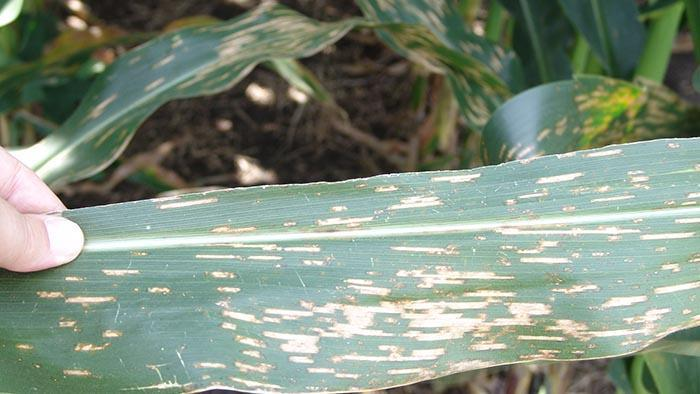Gray_Leaf_Spot: (401, 256, 565, 393), (569, 228, 700, 355), (347, 0, 487, 106), (185, 0, 347, 91), (225, 293, 371, 391), (337, 260, 418, 389), (574, 68, 700, 142), (482, 113, 579, 164), (502, 161, 584, 220), (189, 242, 330, 271), (476, 223, 577, 255), (589, 168, 665, 200), (313, 206, 387, 235), (203, 216, 306, 234), (390, 242, 478, 262), (149, 192, 236, 212), (149, 32, 194, 69), (424, 167, 498, 187), (674, 158, 700, 214), (389, 185, 441, 211), (342, 175, 403, 195), (118, 71, 177, 91), (124, 279, 179, 299), (93, 144, 152, 162), (62, 297, 130, 311), (75, 342, 130, 359), (84, 104, 118, 130), (12, 335, 49, 358), (89, 268, 153, 280), (149, 355, 182, 377), (197, 354, 227, 376), (584, 145, 630, 159), (118, 387, 203, 394), (37, 287, 66, 307), (60, 370, 98, 385), (52, 317, 79, 338), (218, 282, 244, 302), (120, 250, 160, 261), (664, 136, 689, 153), (627, 213, 651, 228), (212, 271, 241, 283), (60, 272, 86, 285), (29, 370, 48, 387), (666, 217, 700, 225), (104, 333, 134, 340), (144, 223, 163, 234), (500, 53, 504, 57), (110, 301, 111, 302)
